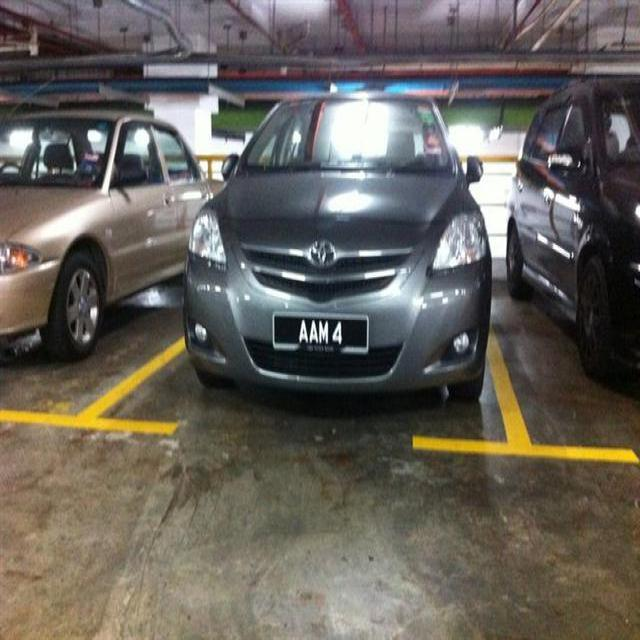car-plate: (272, 312, 370, 354)
